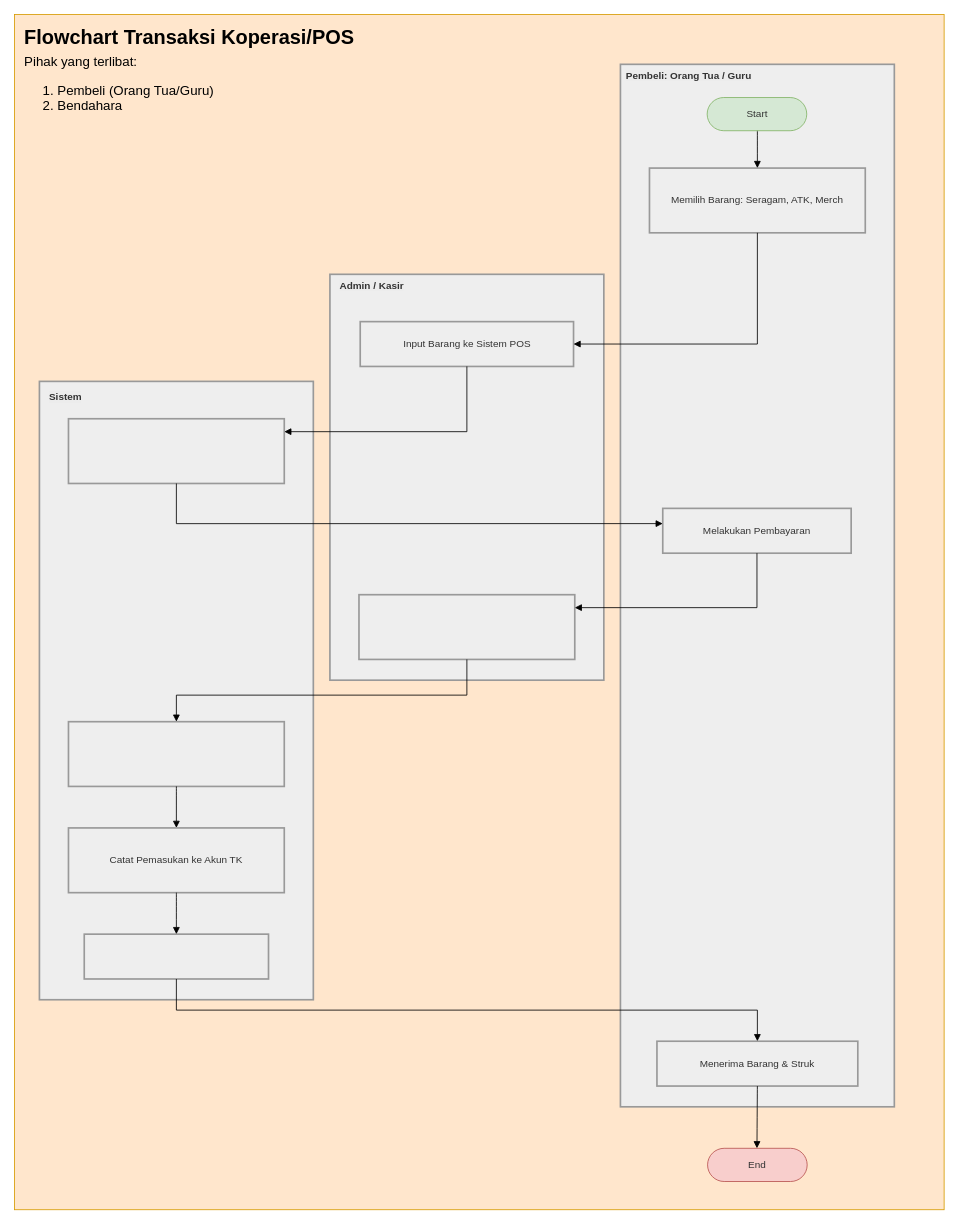
The diagram is 959 pixels wide and 1224 high, and some of its shapes have lost their labels. The centre of each missing label's shape, as x and y in pixels:
Cetak Struk Pembelian: point 176,956
Kalkulasi Total Belanja Otomatis: point 176,450
Kurangi Stok Barang di Gudang: point 176,753
Menerima Uang & Selesaikan Transaksi: point 466,626
